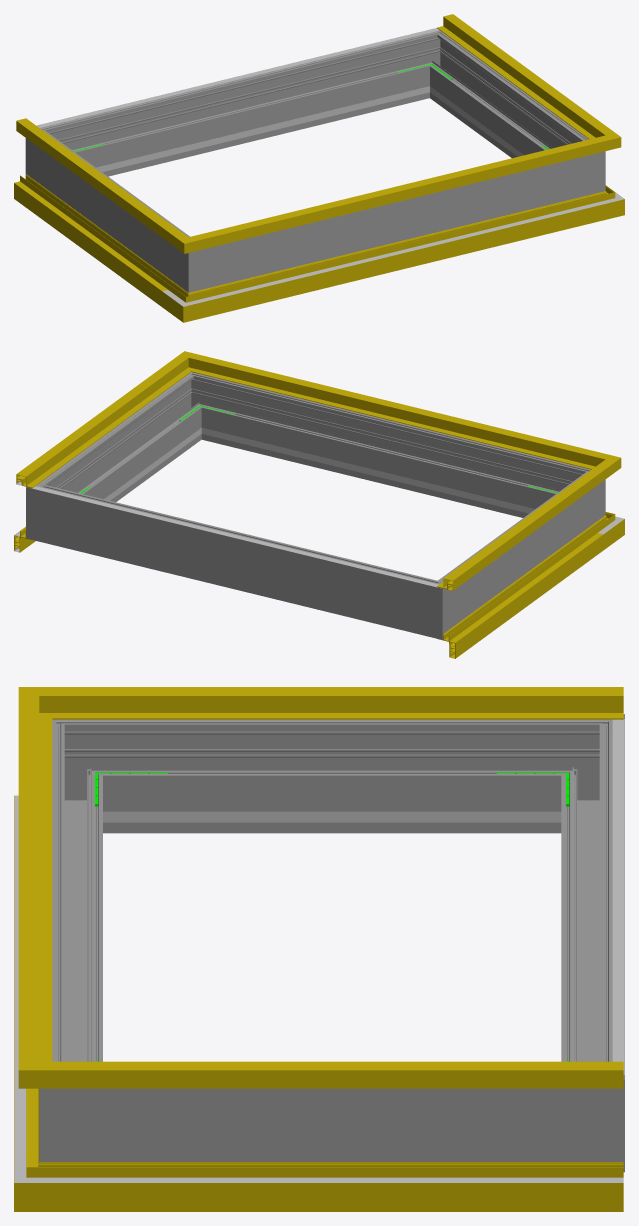
3 views of the same model, one above another, from view 1: azimuth 30°, elevation 25°; view 2: azimuth 150°, elevation 25°; view 3: azimuth 270°, elevation 25° (orthographic). The views are drawn at different scales.
Parts seen in each view (by area): view 1: 3DGeom-276, 3DGeom-298, 3DGeom-90, 3DGeom-297, 3DGeom-123, 3DGeom-268, 3DGeom-85, 3DGeom-128, 3DGeom-118, 3DGeom-270, 3DGeom-244, 3DGeom-284 (+10 smaller); view 2: 3DGeom-298, 3DGeom-276, 3DGeom-297, 3DGeom-123, 3DGeom-268, 3DGeom-85, 3DGeom-128, 3DGeom-118, 3DGeom-278, 3DGeom-284, 3DGeom-239, 3DGeom-290 (+7 smaller); view 3: 3DGeom-268, 3DGeom-297, 3DGeom-97, 3DGeom-118, 3DGeom-128, 3DGeom-276, 3DGeom-298, 3DGeom-123, 3DGeom-284, 3DGeom-290, 3DGeom-278, 3DGeom-270 (+11 smaller).
Boxes of the visible parts, bbox=[...] form: 3DGeom-276: bbox=[66, 38, 423, 176]; 3DGeom-298: bbox=[225, 160, 568, 283]; 3DGeom-90: bbox=[213, 197, 588, 313]; 3DGeom-297: bbox=[433, 43, 578, 158]; 3DGeom-123: bbox=[216, 142, 584, 244]; 3DGeom-268: bbox=[47, 141, 179, 276]; 3DGeom-85: bbox=[14, 174, 174, 306]; 3DGeom-128: bbox=[437, 14, 599, 135]; 3DGeom-118: bbox=[16, 118, 172, 237]; 3DGeom-270: bbox=[167, 229, 225, 292]; 3DGeom-244: bbox=[109, 95, 394, 170]; 3DGeom-284: bbox=[409, 30, 457, 100]; 3DGeom-298: bbox=[207, 379, 565, 517]; 3DGeom-276: bbox=[62, 491, 412, 630]; 3DGeom-297: bbox=[53, 385, 197, 501]; 3DGeom-123: bbox=[212, 360, 583, 465]; 3DGeom-268: bbox=[452, 482, 584, 618]; 3DGeom-85: bbox=[438, 525, 603, 658]; 3DGeom-128: bbox=[16, 366, 179, 488]; 3DGeom-118: bbox=[437, 471, 599, 590]; 3DGeom-278: bbox=[406, 570, 463, 639]; 3DGeom-284: bbox=[26, 473, 69, 547]; 3DGeom-239: bbox=[237, 436, 521, 511]; 3DGeom-290: bbox=[173, 372, 221, 441]; 3DGeom-268: bbox=[115, 719, 548, 833]; 3DGeom-297: bbox=[115, 1088, 548, 1161]; 3DGeom-97: bbox=[90, 1162, 623, 1211]; 3DGeom-118: bbox=[95, 687, 623, 719]; 3DGeom-128: bbox=[95, 1061, 623, 1088]; 3DGeom-276: bbox=[561, 746, 624, 1061]; 3DGeom-298: bbox=[52, 746, 102, 1061]; 3DGeom-123: bbox=[18, 719, 52, 1055]; 3DGeom-284: bbox=[548, 1047, 624, 1172]; 3DGeom-290: bbox=[39, 1047, 115, 1161]; 3DGeom-278: bbox=[548, 714, 624, 833]; 3DGeom-270: bbox=[52, 719, 115, 833].
Size of the model in its own units: 1.83 by 0.3069 by 1.22.
